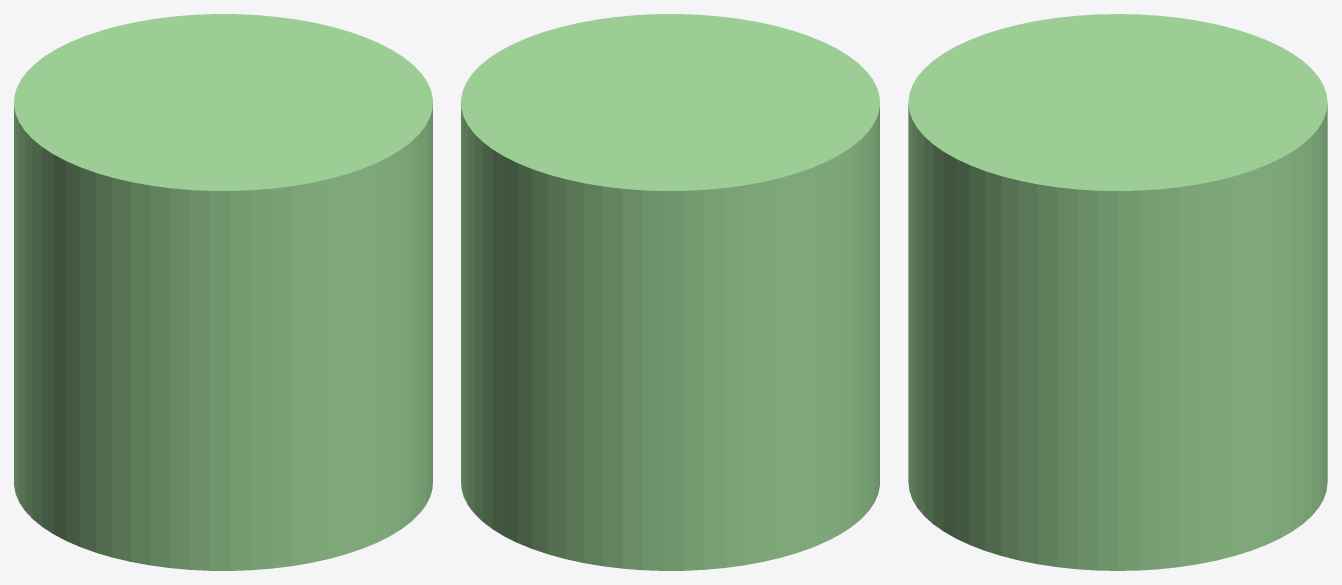
3 views of the same model, side by side, from view 1: azimuth 30°, elevation 25°; view 2: azimuth 150°, elevation 25°; view 3: azimuth 270°, elevation 25° (orthographic).
Parts seen in each view (by area): view 1: Cylinder.019; view 2: Cylinder.019; view 3: Cylinder.019.
Part boxes in pixels (x1,y1,x2,y2): Cylinder.019: (14,14,432,570); Cylinder.019: (461,14,879,570); Cylinder.019: (908,14,1327,570).
Size of the model in its own units: 0.1032 by 0.1032 by 0.1032.
